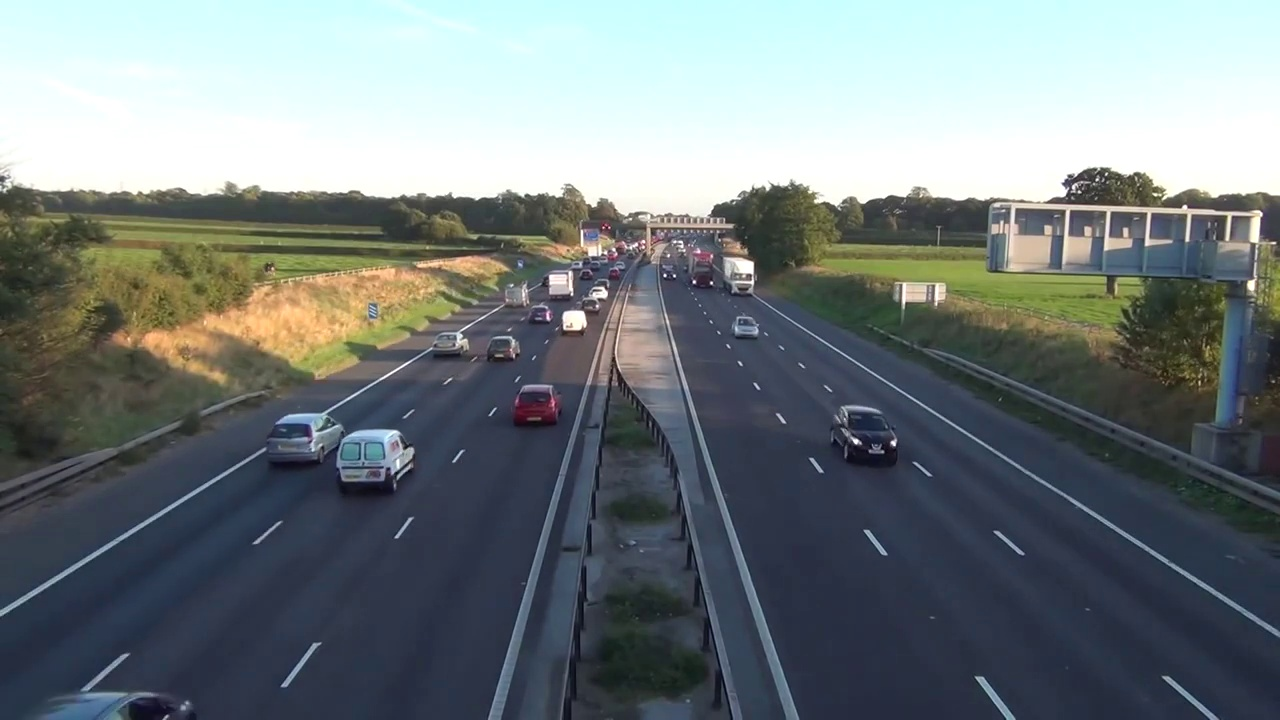bus: (2, 691, 195, 720), (268, 413, 345, 465), (830, 405, 893, 467), (514, 385, 562, 423), (431, 331, 470, 354), (488, 337, 521, 361), (731, 315, 759, 340), (528, 305, 552, 323), (589, 286, 609, 299), (582, 298, 600, 311)
car: (723, 257, 755, 296), (689, 252, 714, 288), (549, 270, 575, 299)
lorry: (335, 430, 415, 495), (559, 310, 588, 336), (505, 286, 530, 306)
